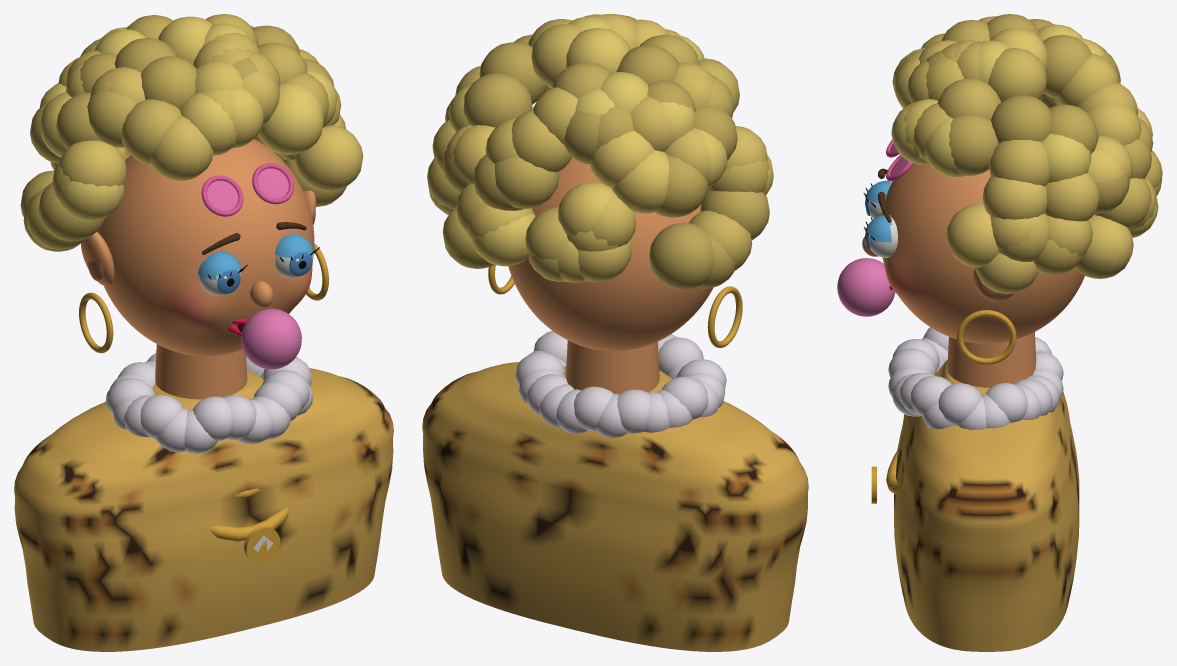
Rendered from magnate_nova.fbx.
3 views of the same model, side by side, from view 1: azimuth 30°, elevation 25°; view 2: azimuth 150°, elevation 25°; view 3: azimuth 270°, elevation 25° (orthographic). The views are drawn at different scales.
Parts seen in each view (by area): view 1: magnate_nova, magnate_nova__head; view 2: magnate_nova, magnate_nova__head; view 3: magnate_nova__head, magnate_nova.
Boxes of the visible parts, x1,y1,x2,y2 form: magnate_nova: (14, 344, 393, 651); magnate_nova__head: (20, 14, 363, 369); magnate_nova: (422, 331, 808, 651); magnate_nova__head: (427, 14, 773, 350); magnate_nova__head: (837, 14, 1162, 364); magnate_nova: (871, 327, 1079, 651).
Size of the model in its own units: 1.49 by 2.26 by 1.22.
